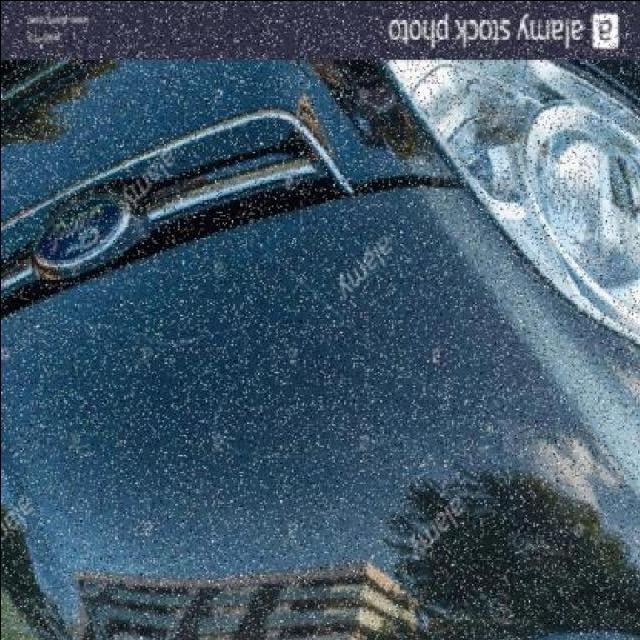bonnet-dent: (0, 168, 628, 591)
